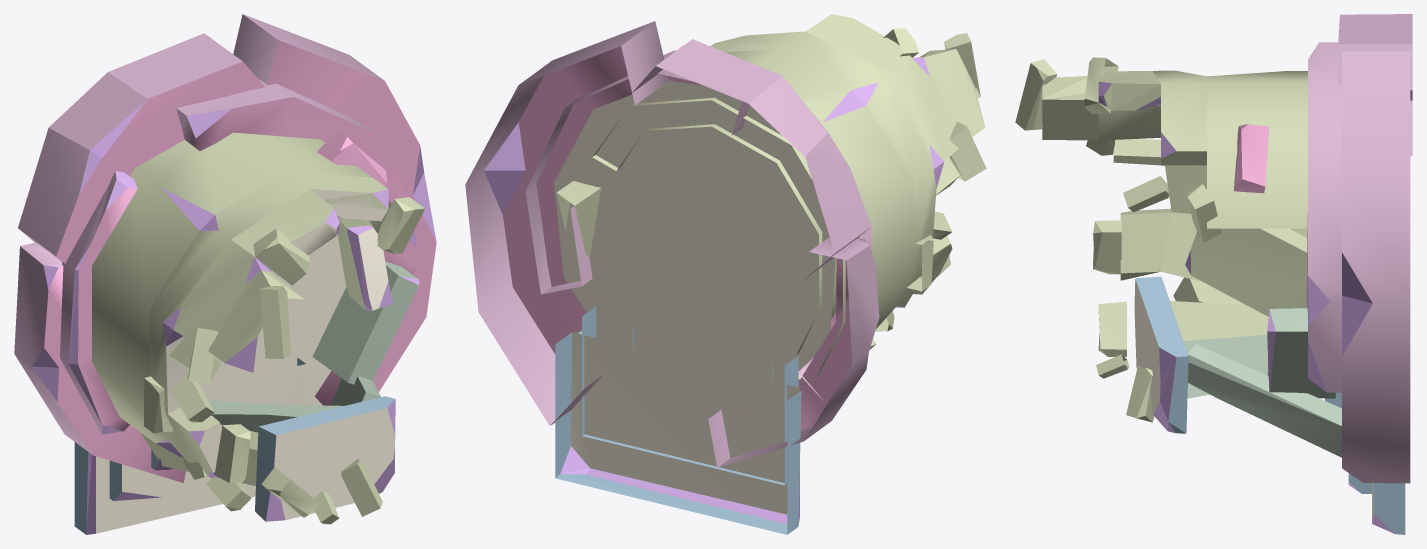
The picture shows the model from 3 angles, left to right: view 1: azimuth 30°, elevation 25°; view 2: azimuth 150°, elevation 25°; view 3: azimuth 270°, elevation 25°; orthographic projection. The views are drawn at different scales.
Visible parts, largest first — view 1: Object50; view 2: Object50; view 3: Object50.
Boxes of the visible parts, <box> form: Object50: <box>14,14,436,534</box>; Object50: <box>465,14,986,534</box>; Object50: <box>1015,14,1412,534</box>.
Size of the model in its own units: 20605 by 23319 by 18618.
